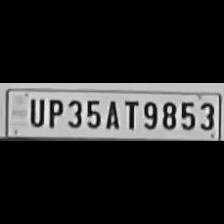3: (197, 98, 215, 132), (64, 96, 82, 128)
5: (83, 96, 101, 130), (178, 97, 196, 130)
8: (159, 97, 177, 130)
9: (139, 97, 159, 130)
A: (102, 97, 122, 131)
P: (44, 96, 64, 128)
T: (121, 97, 139, 131)
U: (24, 96, 43, 128)
